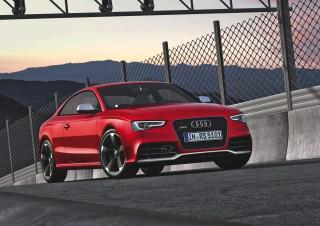Audi: (188, 117, 215, 131)
